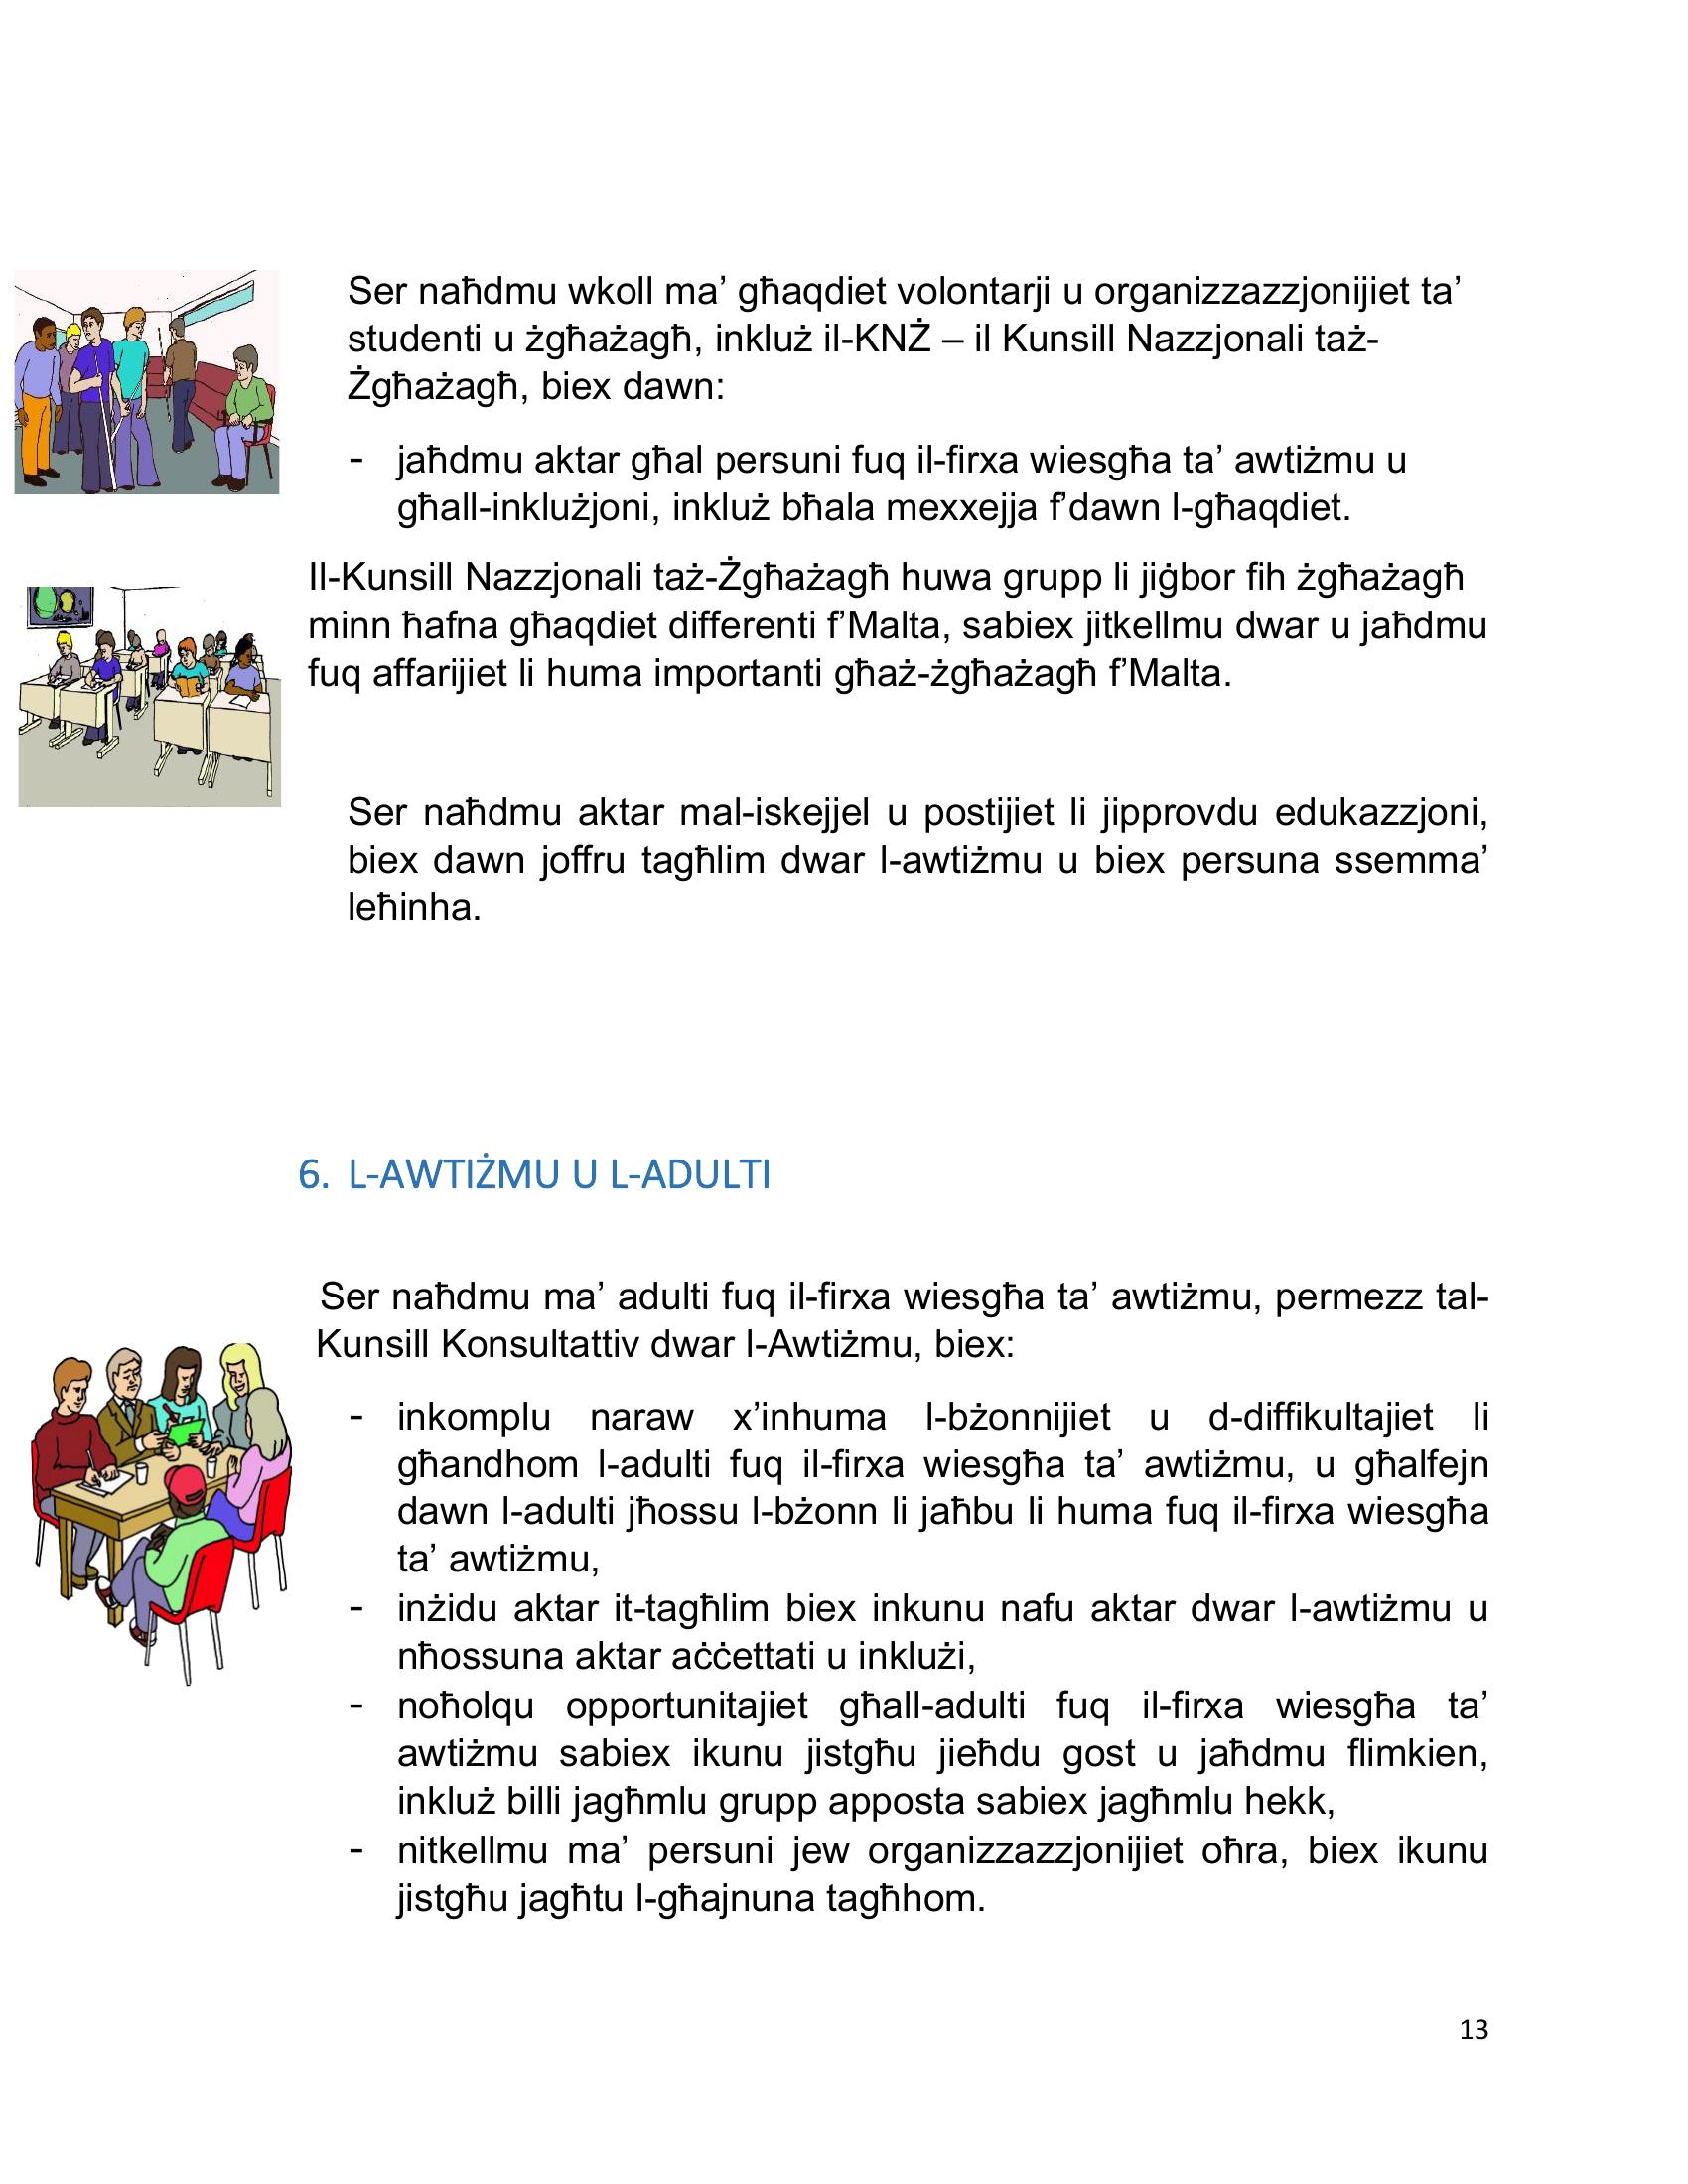text: (296, 257, 1495, 964), (323, 1379, 1502, 1929), (287, 1111, 1500, 1372)
